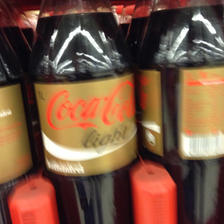soda: (30, 2, 138, 224), (137, 1, 224, 223)
